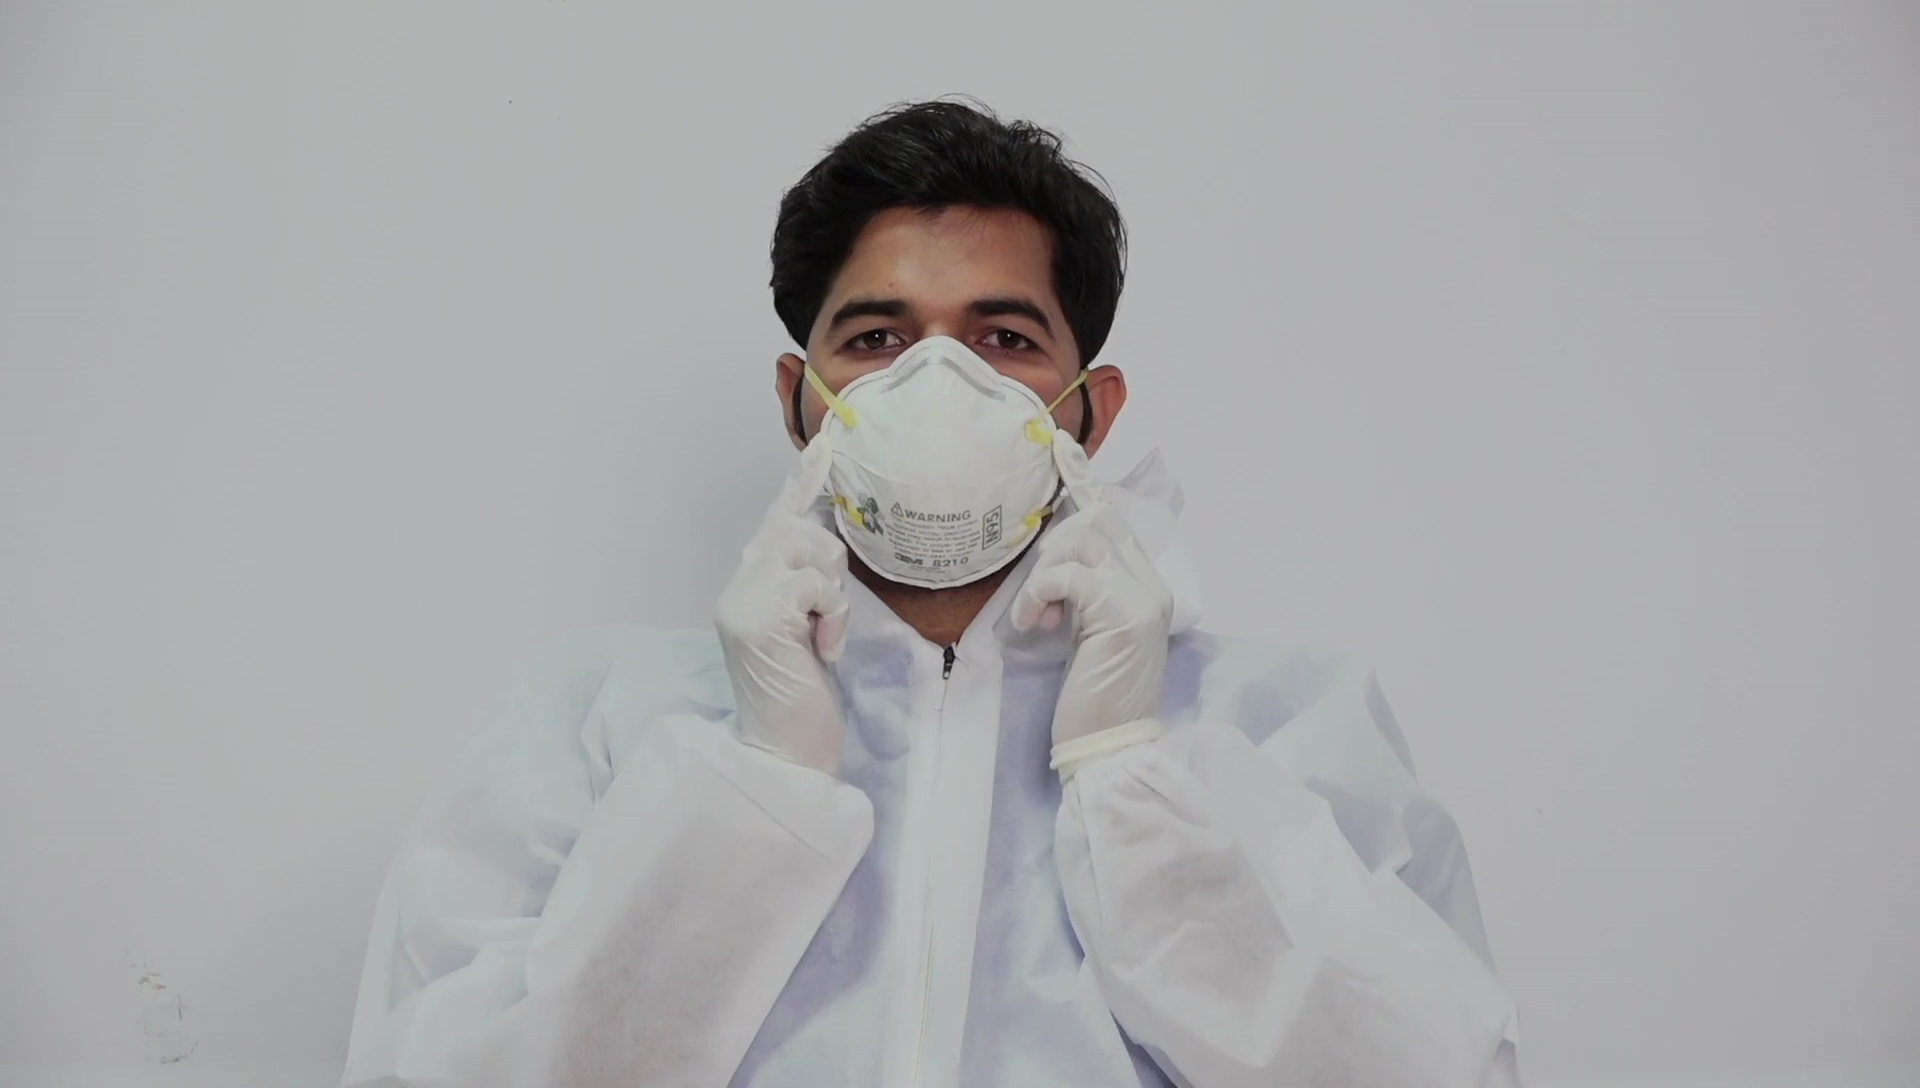Coverall: (341, 618, 1519, 1088)
Gloves: (1009, 430, 1174, 741), (711, 436, 848, 780)
with_mask: (823, 298, 1062, 591)
